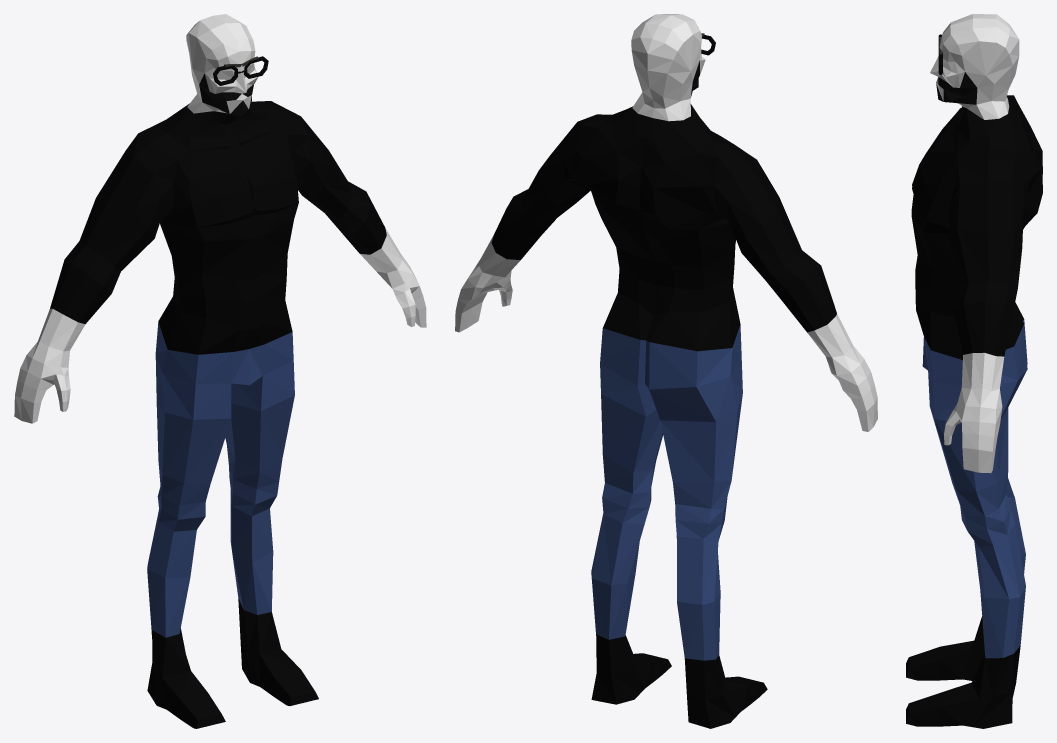
Rendered from MisterA.fbx.
3 renders of one model, left to right at view 1: azimuth 30°, elevation 25°; view 2: azimuth 150°, elevation 25°; view 3: azimuth 270°, elevation 25°, orthographic. The views are drawn at different scales.
Parts seen in each view (by area): view 1: human; view 2: human; view 3: human.
Boxes of the visible parts, left/top/right/bottom form: human: left=14, top=14, right=426, bottom=728; human: left=455, top=14, right=877, bottom=728; human: left=906, top=14, right=1042, bottom=728.
Bounding box in the file's own units: 5148 × 8189 × 1496.
